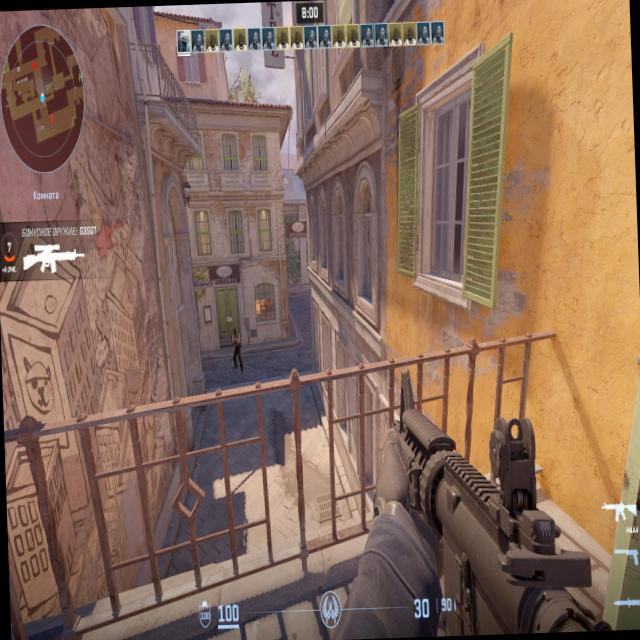T: (233, 328, 242, 369)
T_heat: (232, 327, 236, 336)
